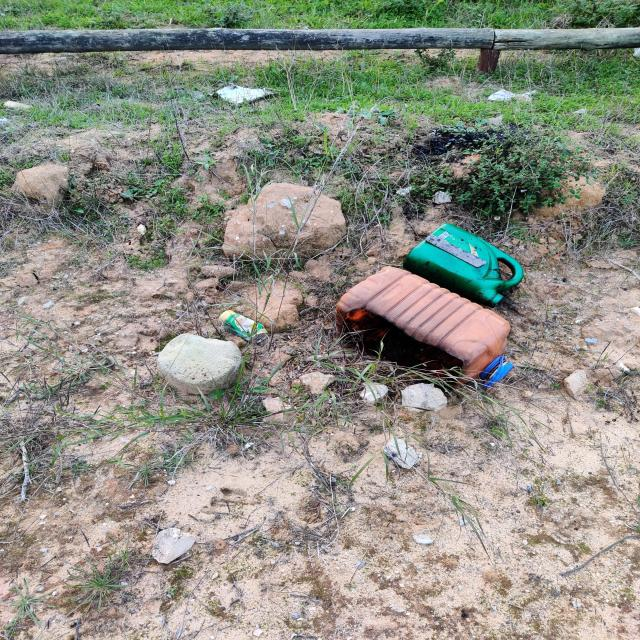litter: (313, 263, 519, 390), (396, 220, 524, 307)
